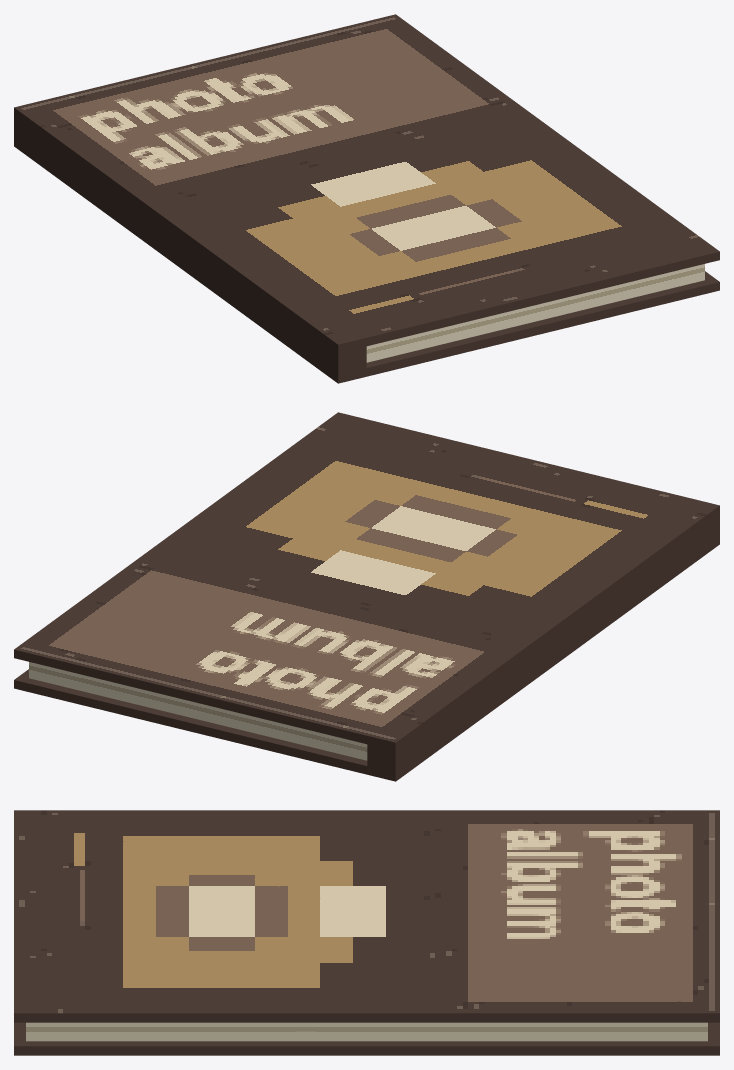
The model's file is photo_album.glb.
The picture shows the model from 3 angles, top to bottom: view 1: azimuth 30°, elevation 25°; view 2: azimuth 150°, elevation 25°; view 3: azimuth 270°, elevation 25°; orthographic projection. The views are drawn at different scales.
Visible parts, largest first — view 1: block_front cover, block_back cover, block_spine, block_page block; view 2: block_front cover, block_back cover, block_spine, block_page block; view 3: block_front cover, block_page block, block_back cover.
Boxes of the visible parts, bbox=[...] form: block_front cover: bbox=[14, 14, 719, 353]; block_back cover: bbox=[14, 138, 719, 383]; block_spine: bbox=[14, 116, 366, 374]; block_page block: bbox=[366, 264, 704, 362]; block_front cover: bbox=[14, 412, 719, 751]; block_back cover: bbox=[14, 536, 719, 781]; block_spine: bbox=[367, 514, 719, 772]; block_page block: bbox=[29, 662, 367, 760]; block_front cover: bbox=[14, 810, 719, 1022]; block_page block: bbox=[26, 1022, 707, 1041]; block_back cover: bbox=[14, 1022, 719, 1055].
Bounding box in the file's own units: 0.1204 × 0.0117 × 0.177.
1 material, 1 textured.
